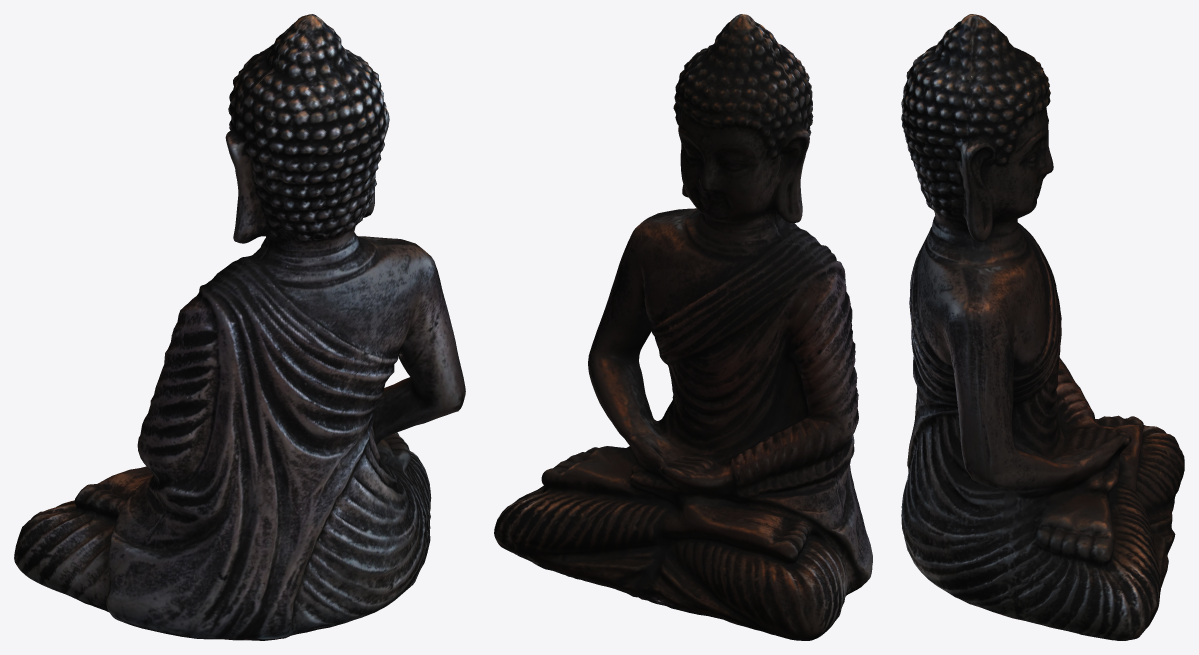
The model's file is Buddha.fbx.
The picture shows the model from 3 angles, left to right: view 1: azimuth 30°, elevation 25°; view 2: azimuth 150°, elevation 25°; view 3: azimuth 270°, elevation 25°; orthographic projection. The views are drawn at different scales.
Visible parts, largest first — view 1: LR_A1; view 2: LR_A1; view 3: LR_A1.
Part boxes in pixels (box(x1,y1,x2,y2)): LR_A1: box(14, 14, 465, 640); LR_A1: box(494, 14, 872, 640); LR_A1: box(901, 14, 1184, 640).
Bounding box in the file's own units: 24.36 × 35.59 × 16.69.
1 material, 1 textured.
